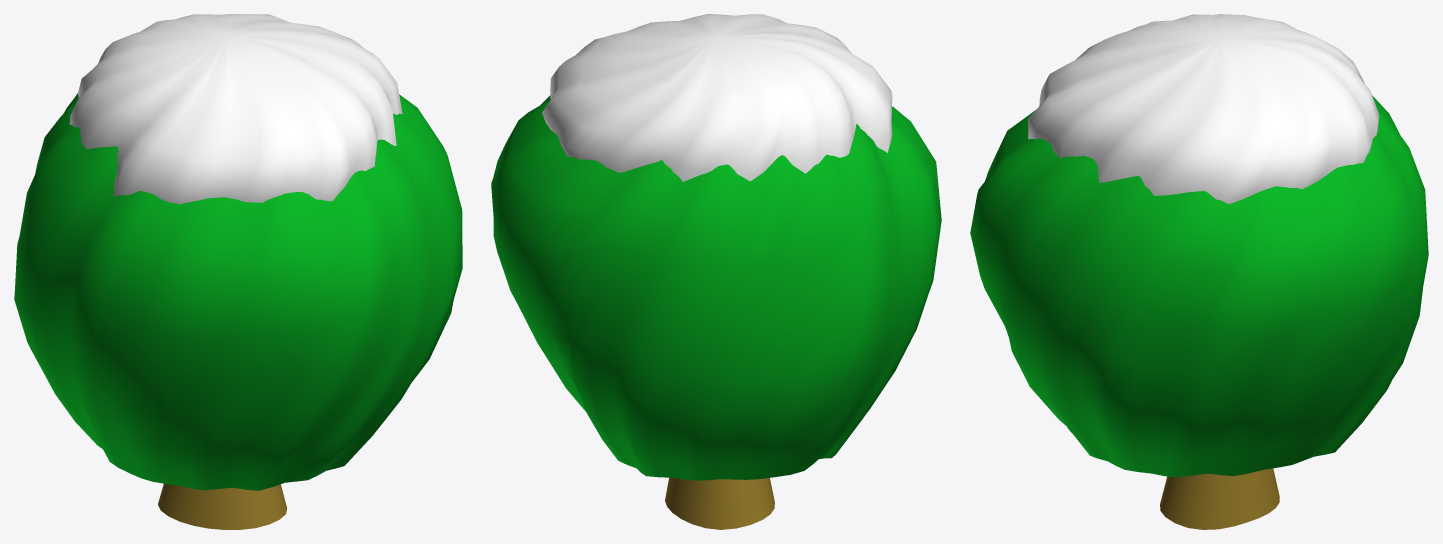
File: HEDGE-SMALL.glb
3 views of the same model, side by side, from view 1: azimuth 30°, elevation 25°; view 2: azimuth 150°, elevation 25°; view 3: azimuth 270°, elevation 25° (orthographic).
Visible parts, largest first — view 1: HEDGE - SMALL; view 2: HEDGE - SMALL; view 3: HEDGE - SMALL.
Part boxes in pixels (box(x1,y1,x2,y2)): HEDGE - SMALL: box(14, 14, 462, 529); HEDGE - SMALL: box(491, 14, 941, 529); HEDGE - SMALL: box(970, 14, 1428, 529).
Bounding box in the file's own units: 1.56 × 1.81 × 1.61.
